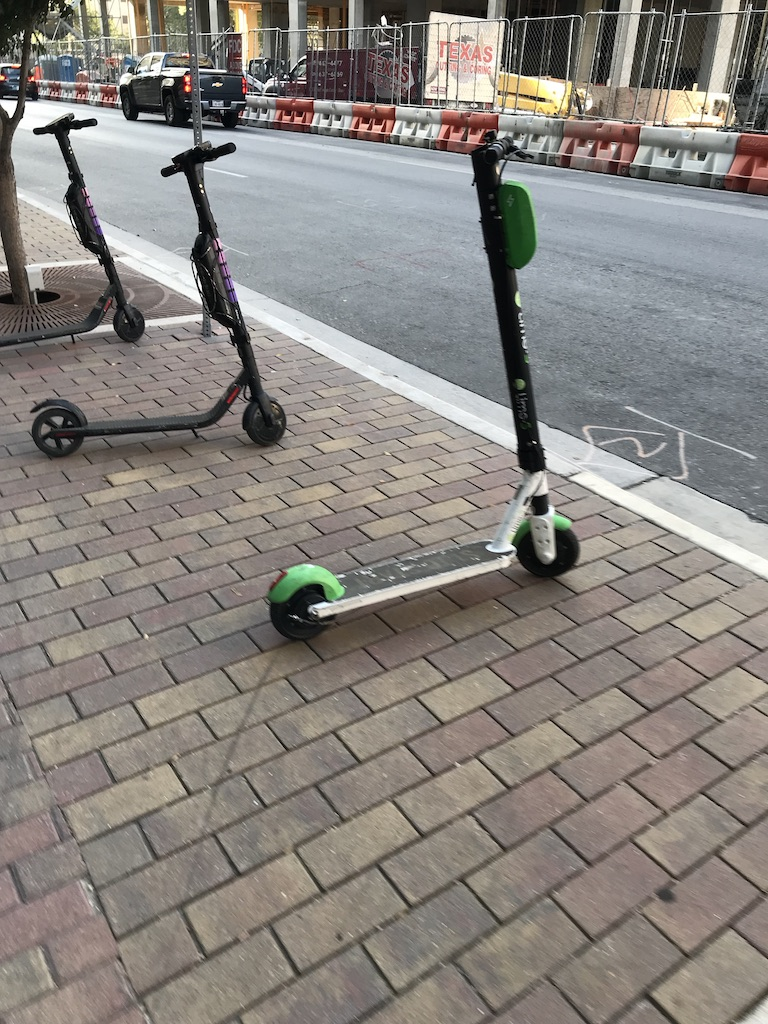scooter: (264, 131, 583, 641), (31, 142, 290, 457), (1, 114, 149, 351)
